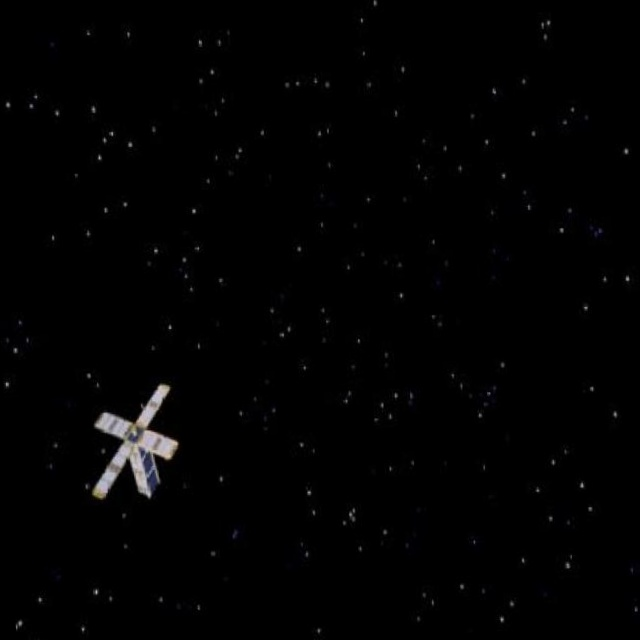medium_debris: (80, 378, 192, 513)
